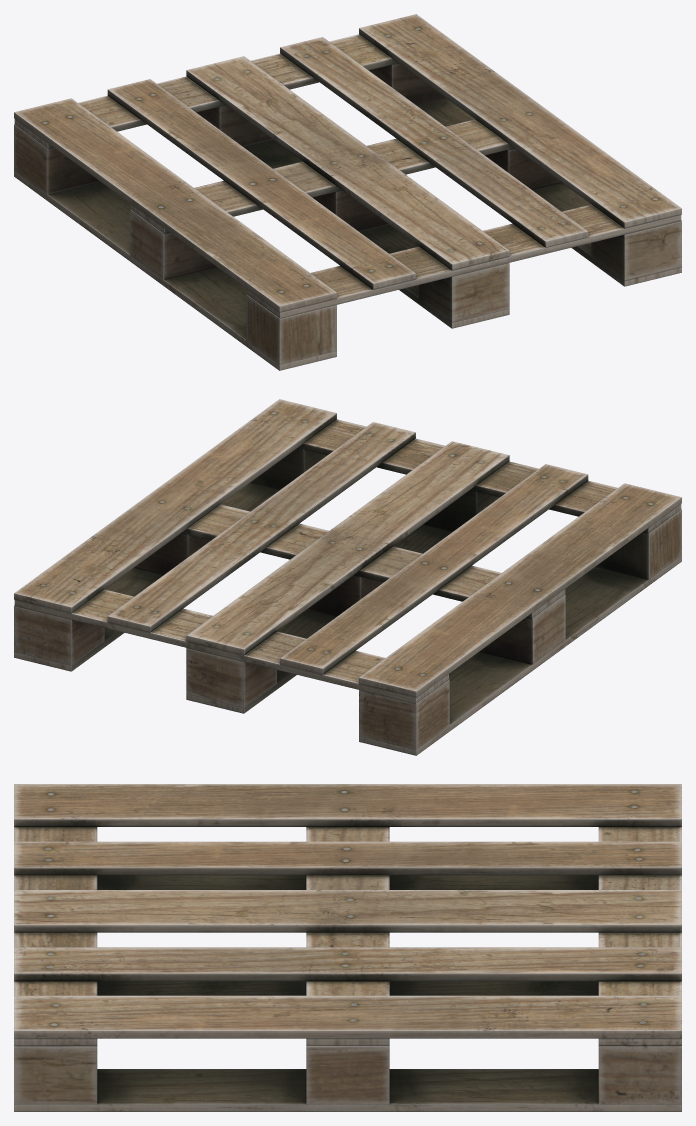
Rendered from palette.fbx.
3 views of the same model, one above another, from view 1: azimuth 30°, elevation 25°; view 2: azimuth 150°, elevation 25°; view 3: azimuth 270°, elevation 25° (orthographic). The views are drawn at different scales.
Parts seen in each view (by area): view 1: palette_LOD0; view 2: palette_LOD0; view 3: palette_LOD0.
Boxes of the visible parts, left/top/right/bottom form: palette_LOD0: left=14, top=14, right=681, bottom=370; palette_LOD0: left=14, top=399, right=681, bottom=755; palette_LOD0: left=14, top=784, right=681, bottom=1111.
Size of what is drawn, in the model's own units: 12.58 by 1.92 by 14.38.
